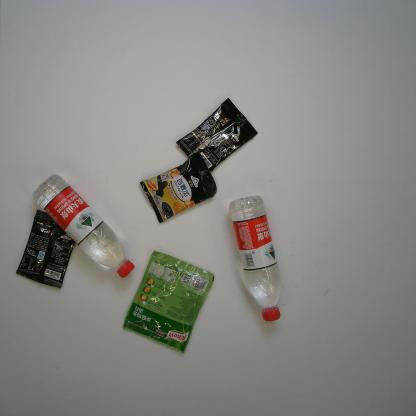Drink: (32, 173, 136, 280), (230, 195, 283, 322)
Instant Drink: (174, 98, 260, 172), (139, 152, 217, 224), (16, 208, 78, 290)
Seasoner: (122, 249, 216, 354)
